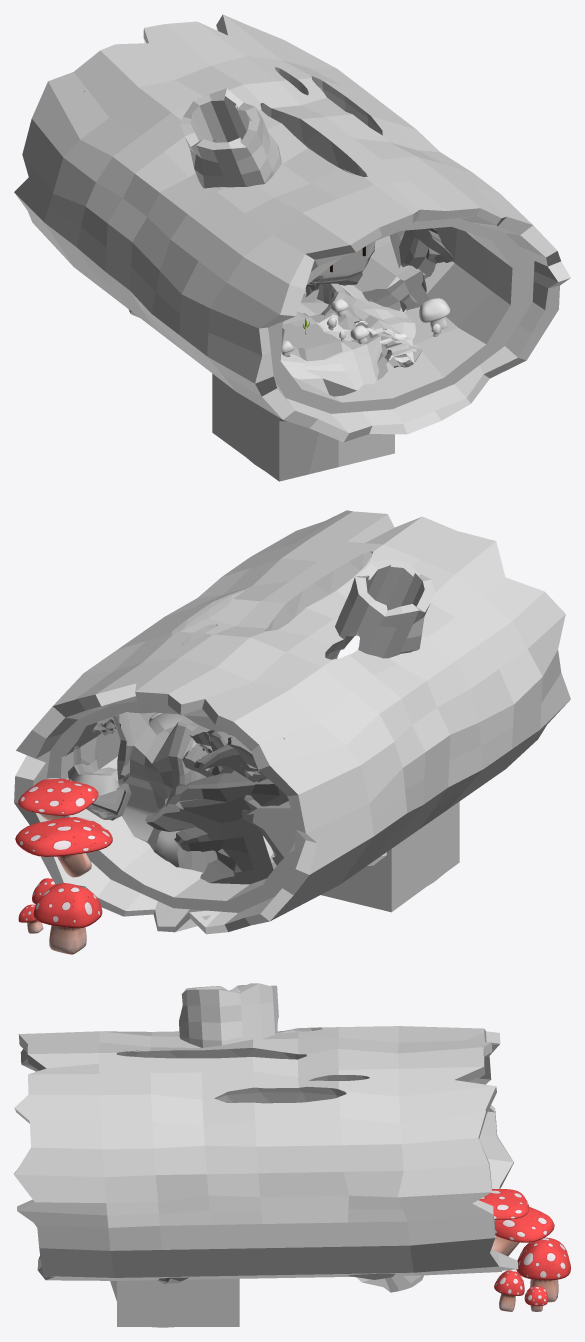
Rendered from LEVEL1,LOG,fs.fbx.
The picture shows the model from 3 angles, top to bottom: view 1: azimuth 30°, elevation 25°; view 2: azimuth 150°, elevation 25°; view 3: azimuth 270°, elevation 25°; orthographic projection. The views are drawn at different scales.
Parts seen in each view (by area): view 1: LOG, Cube, Log Branch, Level_Base, Log_Interior2, Log_Interior1, Curved_Bridge, Rocky_Boulder, Cube.004; view 2: LOG, Log_Interior4, Level_Base, Log Branch, Cube, Mushroom step 2, Cube.013, Mushroom step1, Log_Interior5, Log_Interior4.001, Log_Interior4.002; view 3: LOG, Cube, Log Branch, Cube.013, Mushroom step 2, Mushroom step1, Cube.014, Log_Interior3, Cube.015.
Part boxes in pixels (<box>): LOG: <box>14,14,570,442</box>; Cube: <box>212,284,415,481</box>; Log Branch: <box>180,88,281,188</box>; Level_Base: <box>281,283,387,378</box>; Log_Interior2: <box>362,230,429,311</box>; Log_Interior1: <box>399,228,453,278</box>; Curved_Bridge: <box>312,241,375,285</box>; Rocky_Boulder: <box>353,320,422,367</box>; Cube.004: <box>419,298,450,329</box>; LOG: <box>14,510,570,934</box>; Log_Interior4: <box>145,738,288,884</box>; Level_Base: <box>66,712,217,872</box>; Log Branch: <box>335,559,434,658</box>; Cube: <box>321,801,459,912</box>; Mushroom step 2: <box>15,817,112,877</box>; Cube.013: <box>33,883,102,954</box>; Mushroom step1: <box>18,778,98,820</box>; Log_Interior5: <box>241,795,295,865</box>; Log_Interior4.001: <box>181,725,267,782</box>; Log_Interior4.002: <box>69,779,131,820</box>; LOG: <box>14,1026,518,1280</box>; Cube: <box>110,1279,239,1327</box>; Log Branch: <box>179,983,278,1047</box>; Cube.013: <box>516,1237,570,1302</box>; Mushroom step 2: <box>491,1206,554,1256</box>; Mushroom step1: <box>479,1189,529,1223</box>; Cube.014: <box>494,1270,524,1311</box>; Log_Interior3: <box>356,1275,423,1292</box>; Cube.015: <box>524,1286,548,1311</box>.
Bounding box in the file's own units: 554 × 547 × 908.
